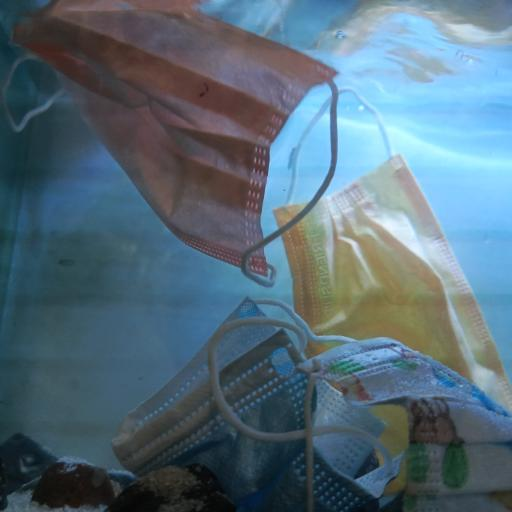mask: (4, 2, 338, 284), (111, 295, 407, 512), (273, 150, 512, 414), (297, 334, 512, 512)
